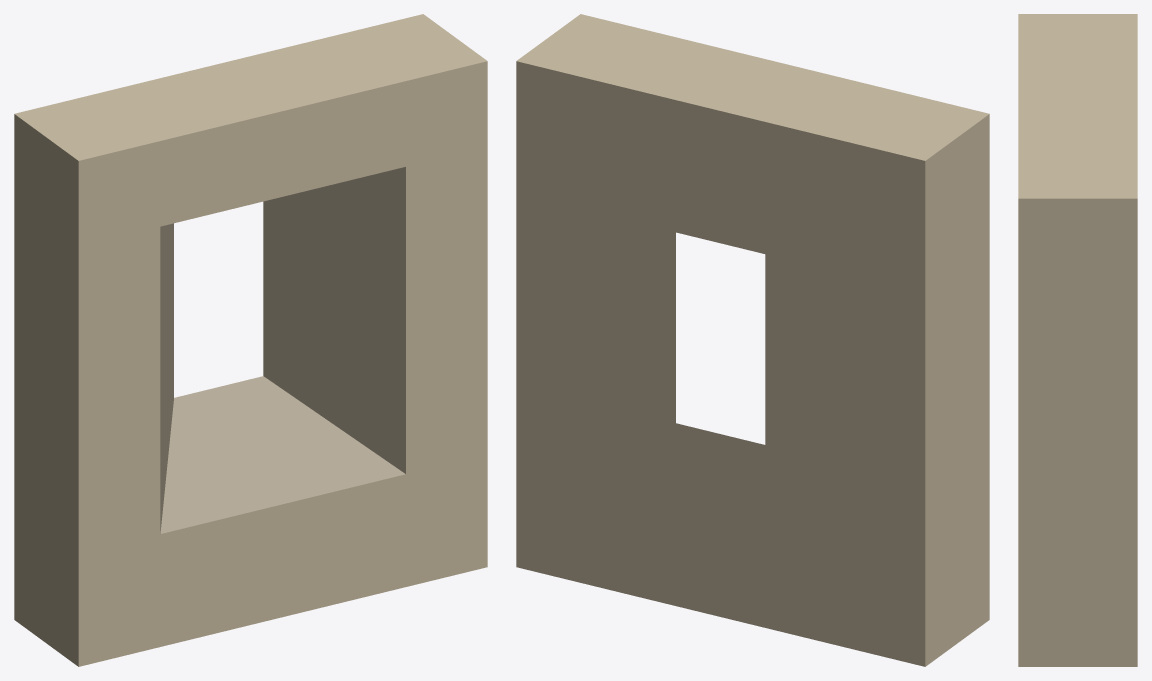
The picture shows the model from 3 angles, left to right: view 1: azimuth 30°, elevation 25°; view 2: azimuth 150°, elevation 25°; view 3: azimuth 270°, elevation 25°; orthographic projection. The views are drawn at different scales.
Parts seen in each view (by area): view 1: WholeFourSidedSplayedThroughWindowWall; view 2: WholeFourSidedSplayedThroughWindowWall; view 3: WholeFourSidedSplayedThroughWindowWall.
Boxes of the visible parts, left/top/right/bottom form: WholeFourSidedSplayedThroughWindowWall: left=14, top=14, right=487, bottom=666; WholeFourSidedSplayedThroughWindowWall: left=516, top=14, right=989, bottom=666; WholeFourSidedSplayedThroughWindowWall: left=1018, top=14, right=1137, bottom=666.
Size of the model in its own units: 2.2 by 2.6 by 0.6.
